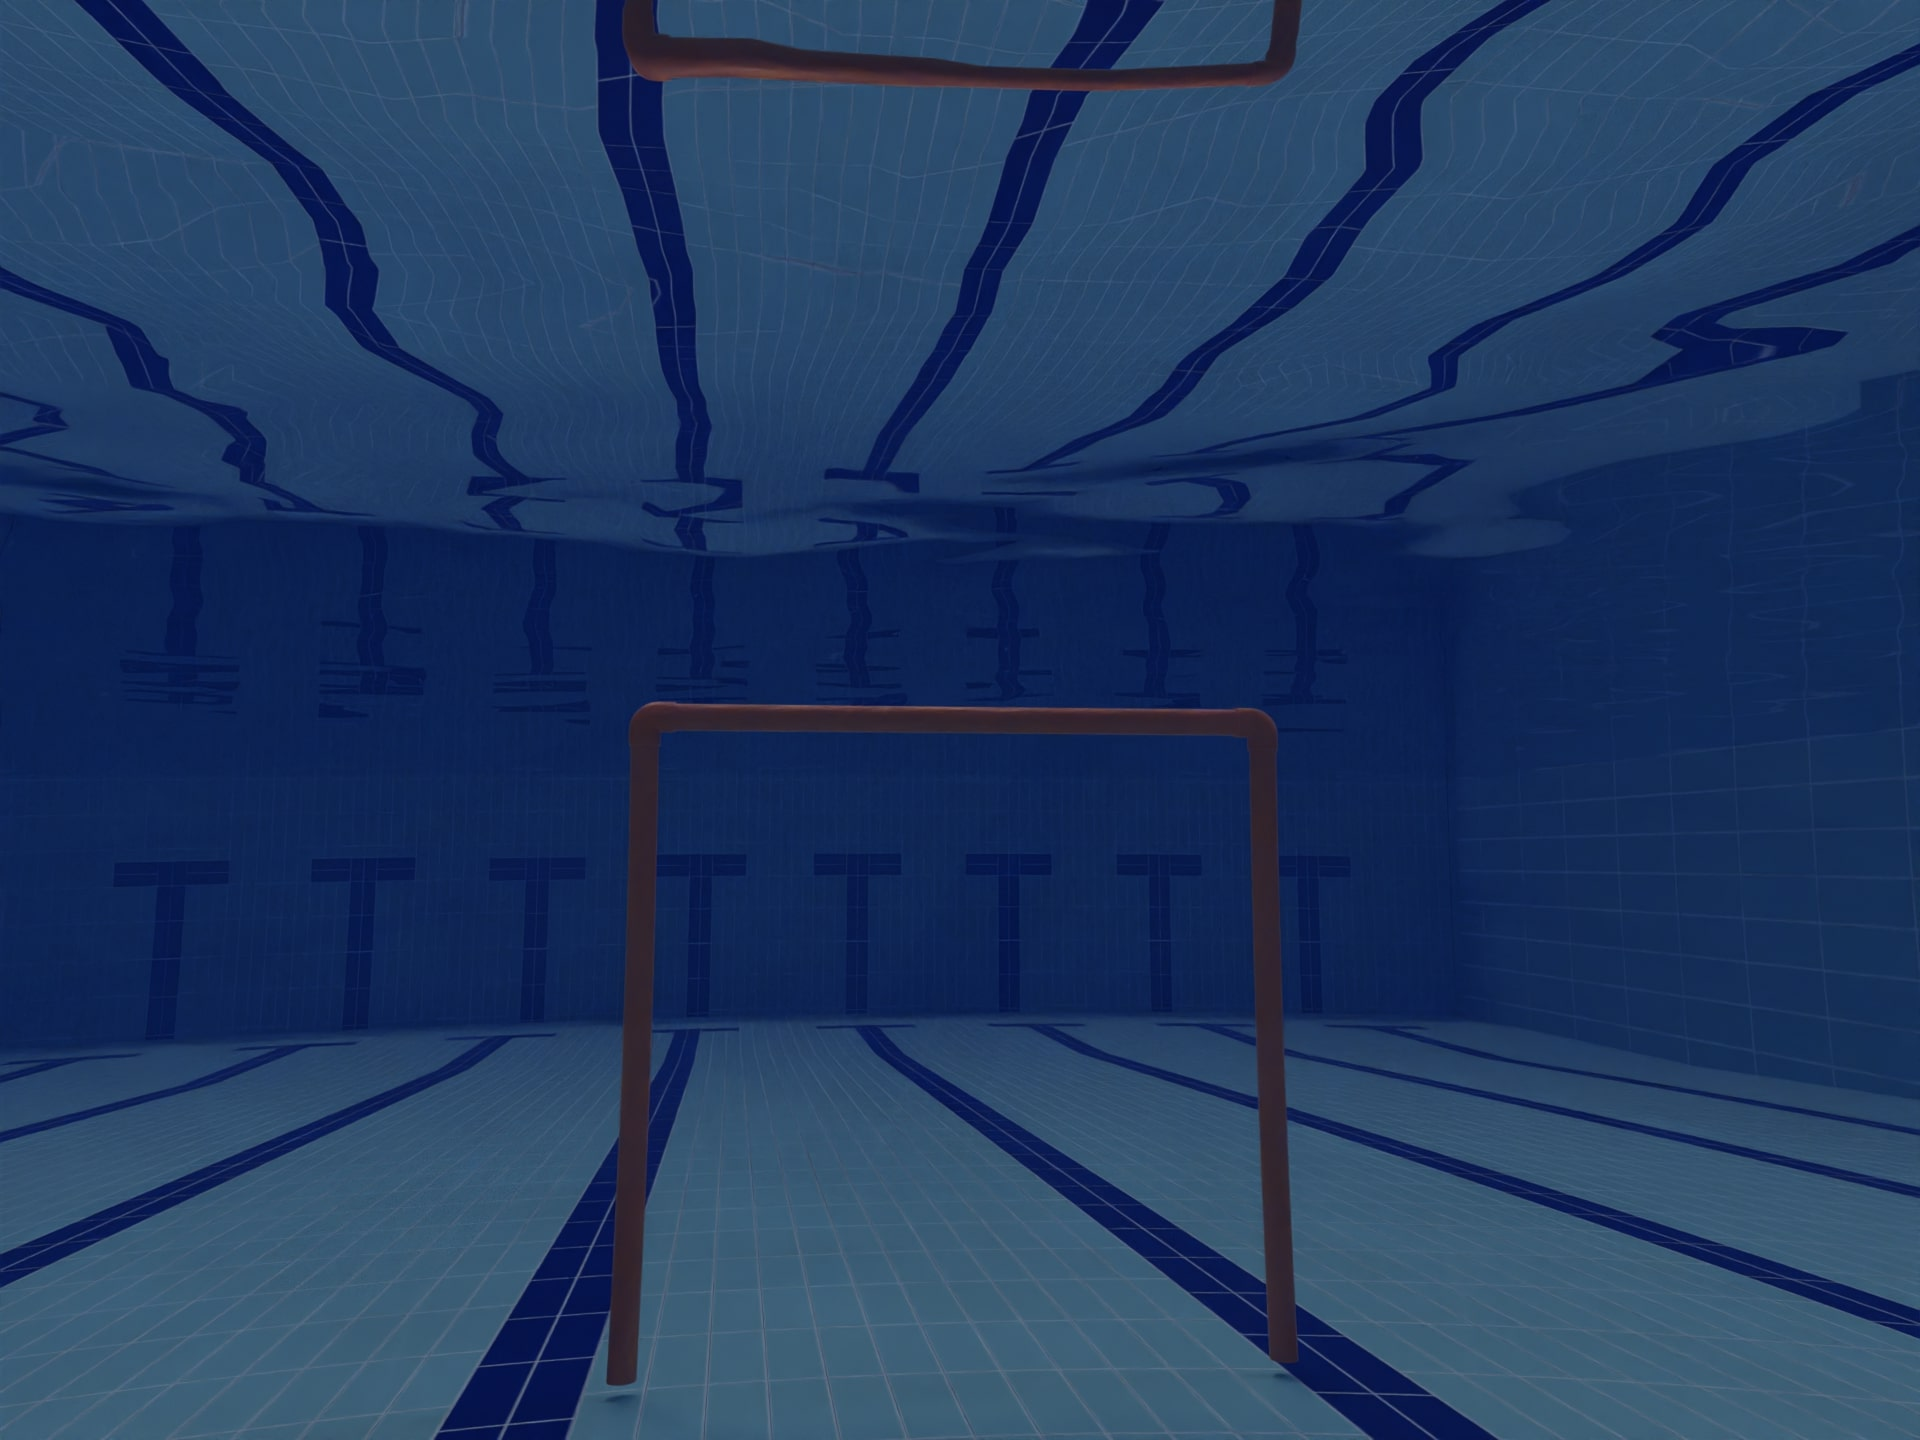gate: (552, 635, 1423, 1398)
